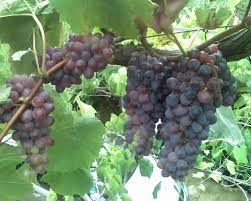Black grapes: (156, 48, 223, 183), (118, 47, 168, 158), (1, 77, 57, 168)
